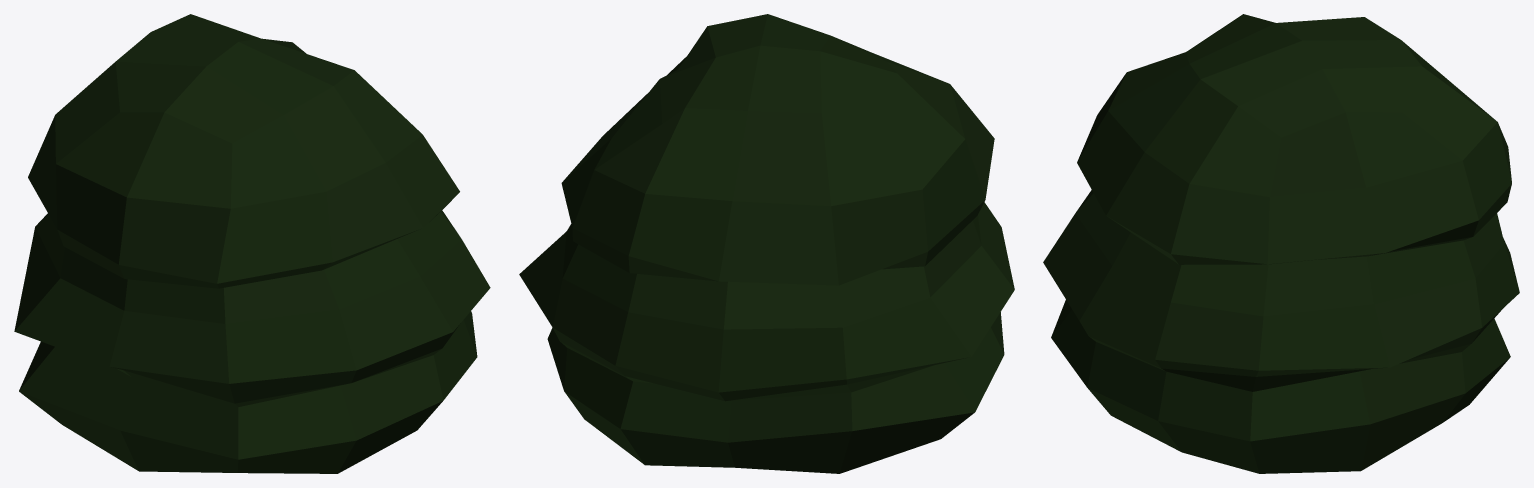
File: Bush_2.glb
3 renders of one model, left to right at view 1: azimuth 30°, elevation 25°; view 2: azimuth 150°, elevation 25°; view 3: azimuth 270°, elevation 25°, orthographic. The views are drawn at different scales.
Parts seen in each view (by area): view 1: Bush_2_Cube.042; view 2: Bush_2_Cube.042; view 3: Bush_2_Cube.042.
Boxes of the visible parts, x1,y1,x2,y2 form: Bush_2_Cube.042: (14,14,490,473); Bush_2_Cube.042: (519,14,1014,473); Bush_2_Cube.042: (1043,14,1519,473).
Bounding box in the file's own units: 1.35 × 1.11 × 1.33.
